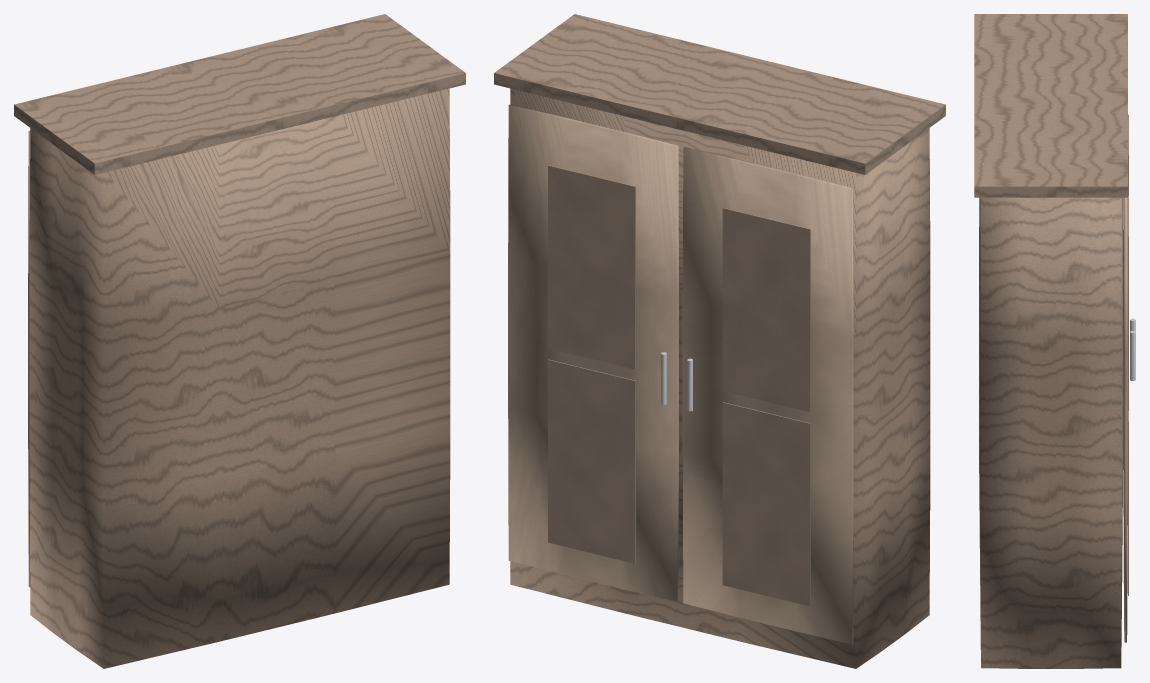
Rendered from wardrobe.glb.
3 views of the same model, side by side, from view 1: azimuth 30°, elevation 25°; view 2: azimuth 150°, elevation 25°; view 3: azimuth 270°, elevation 25° (orthographic). The views are drawn at different scales.
Parts seen in each view (by area): view 1: wardrobe_body; view 2: wardrobe_body; view 3: wardrobe_body.
Part boxes in pixels (left/top/right/bottom): wardrobe_body: left=14, top=14, right=465, bottom=668; wardrobe_body: left=494, top=14, right=945, bottom=668; wardrobe_body: left=974, top=14, right=1135, bottom=668.
Size of the model in its own units: 1.7 by 2.24 by 0.672.
Materials: 4 (4 with a texture image).
